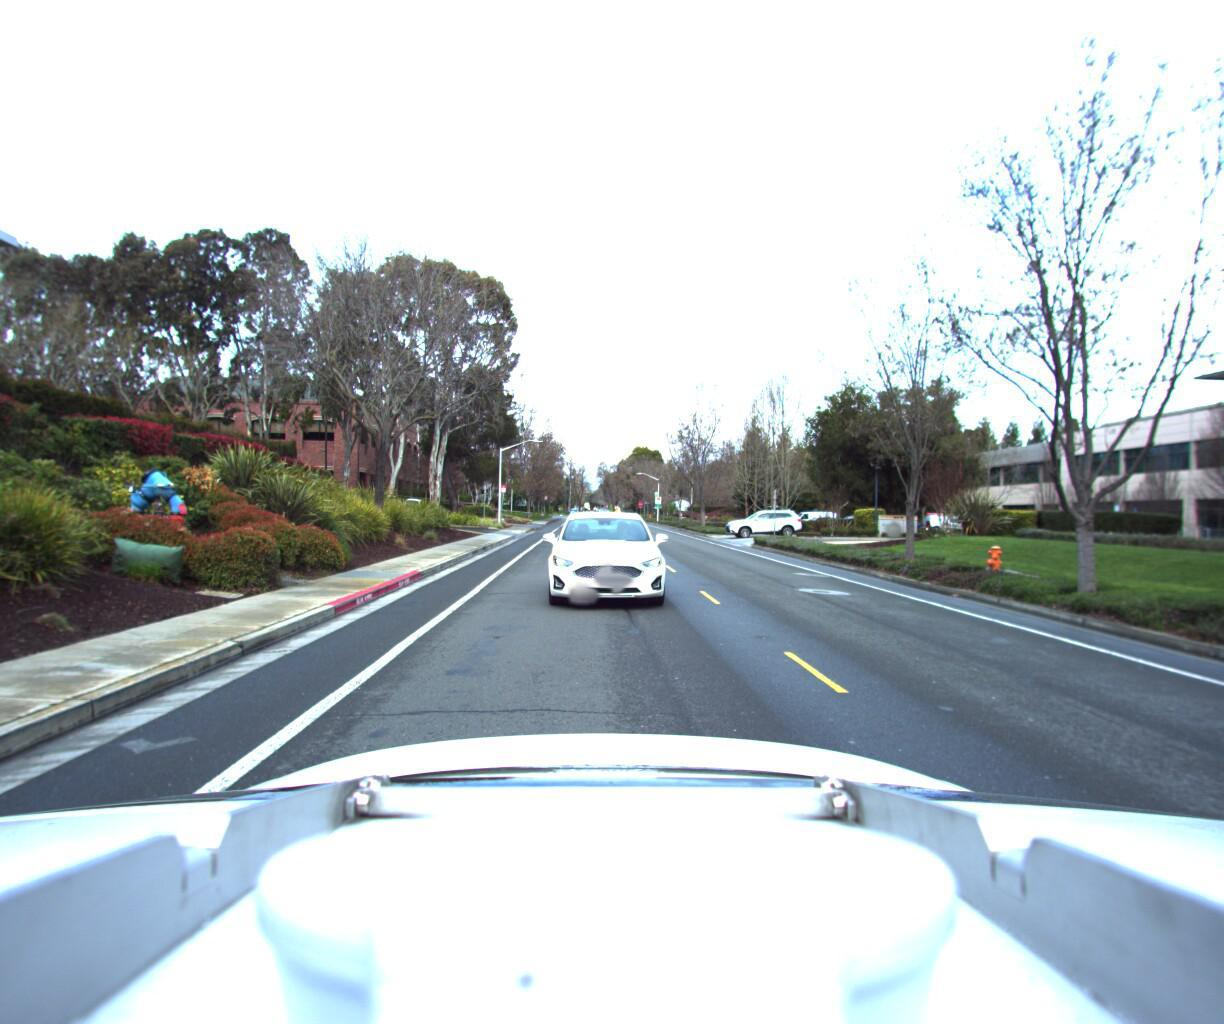car: (537, 505, 681, 616), (725, 509, 809, 540)
